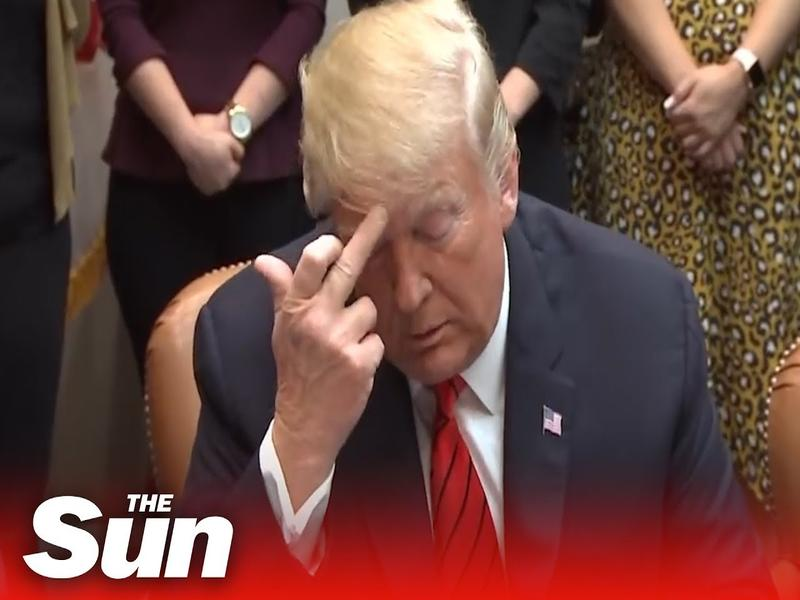flipping_the_bird: (239, 196, 400, 405)
